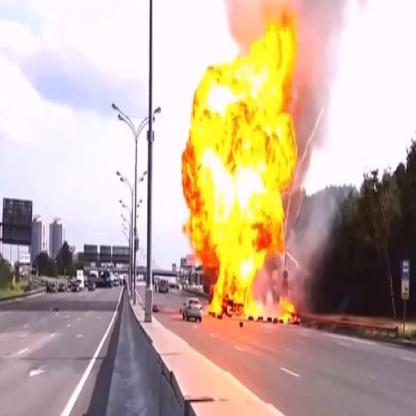fire: (179, 15, 308, 327)
